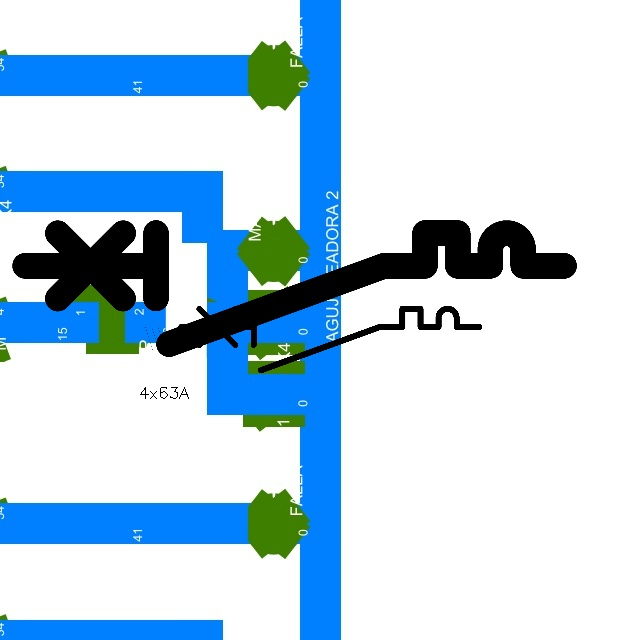interruptor_termomagnetico: (11, 219, 578, 358), (173, 301, 486, 377)
